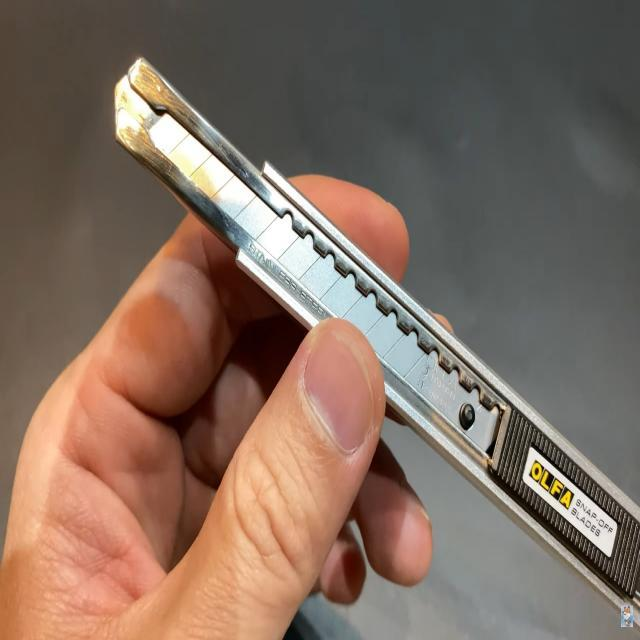cutter: (65, 22, 640, 640)
